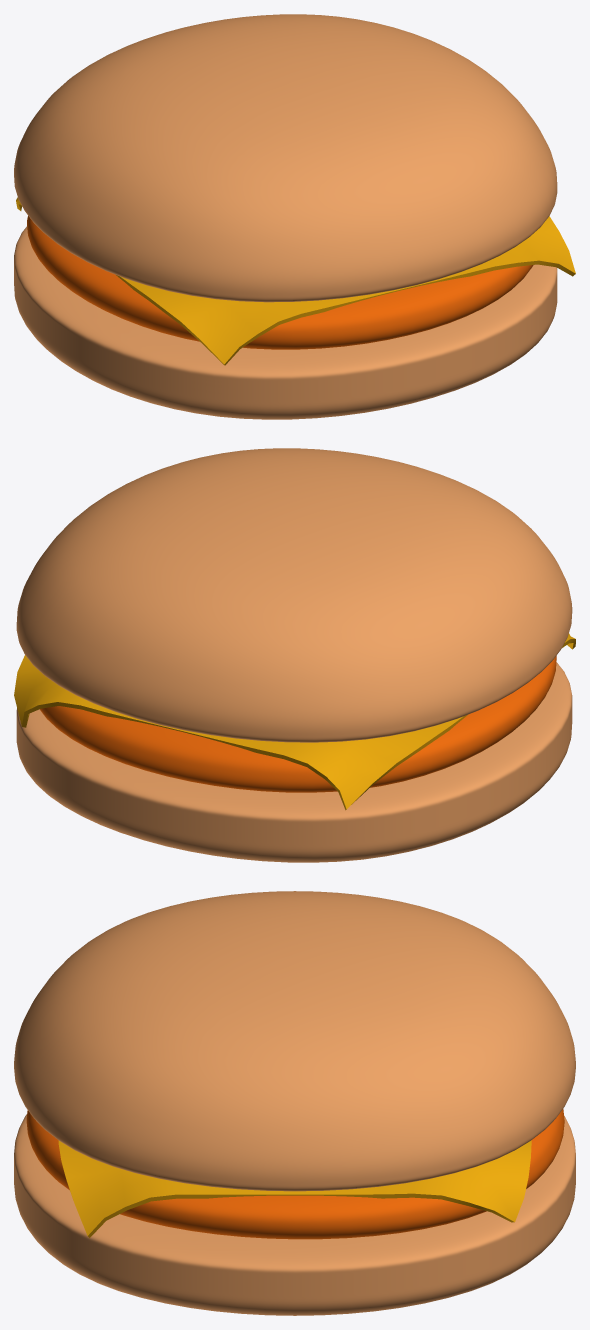
The model's file is hamburger.glb.
3 views of the same model, one above another, from view 1: azimuth 30°, elevation 25°; view 2: azimuth 150°, elevation 25°; view 3: azimuth 270°, elevation 25° (orthographic). The views are drawn at different scales.
Visible parts, largest first — view 1: Cube.002, Cube, Cube.001, Plane; view 2: Cube.002, Cube, Cube.001, Plane; view 3: Cube.002, Cube, Cube.001, Plane.
Boxes of the visible parts, <box> form: Cube.002: <box>14,14,557,302</box>; Cube: <box>14,226,557,419</box>; Cube.001: <box>27,216,533,349</box>; Plane: <box>16,197,575,365</box>; Cube.002: <box>16,448,572,742</box>; Cube: <box>16,662,572,862</box>; Cube.001: <box>40,656,556,792</box>; Plane: <box>14,633,575,810</box>; Cube.002: <box>14,891,575,1191</box>; Cube: <box>14,1114,575,1315</box>; Cube.001: <box>26,1109,564,1239</box>; Plane: <box>58,1140,531,1237</box>.
Bounding box in the file's own units: 9.25 × 5.02 × 9.25.
